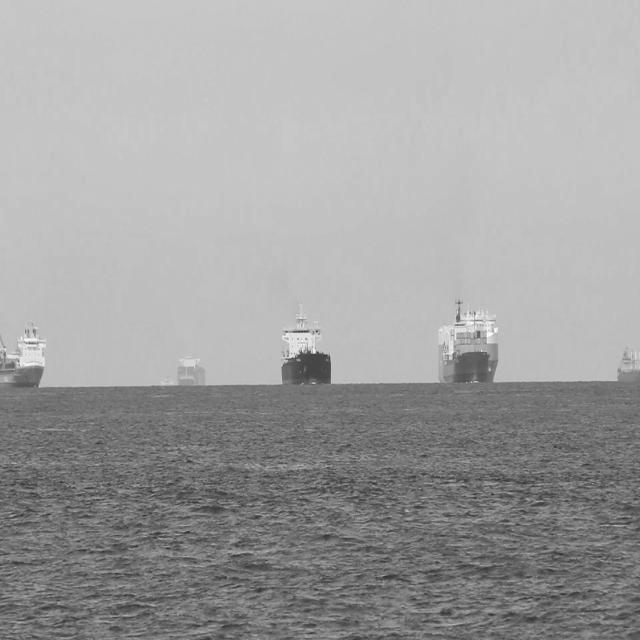ship: (435, 296, 500, 388), (279, 296, 332, 388), (0, 320, 48, 392), (175, 354, 208, 391), (615, 347, 639, 387), (158, 374, 176, 390)
